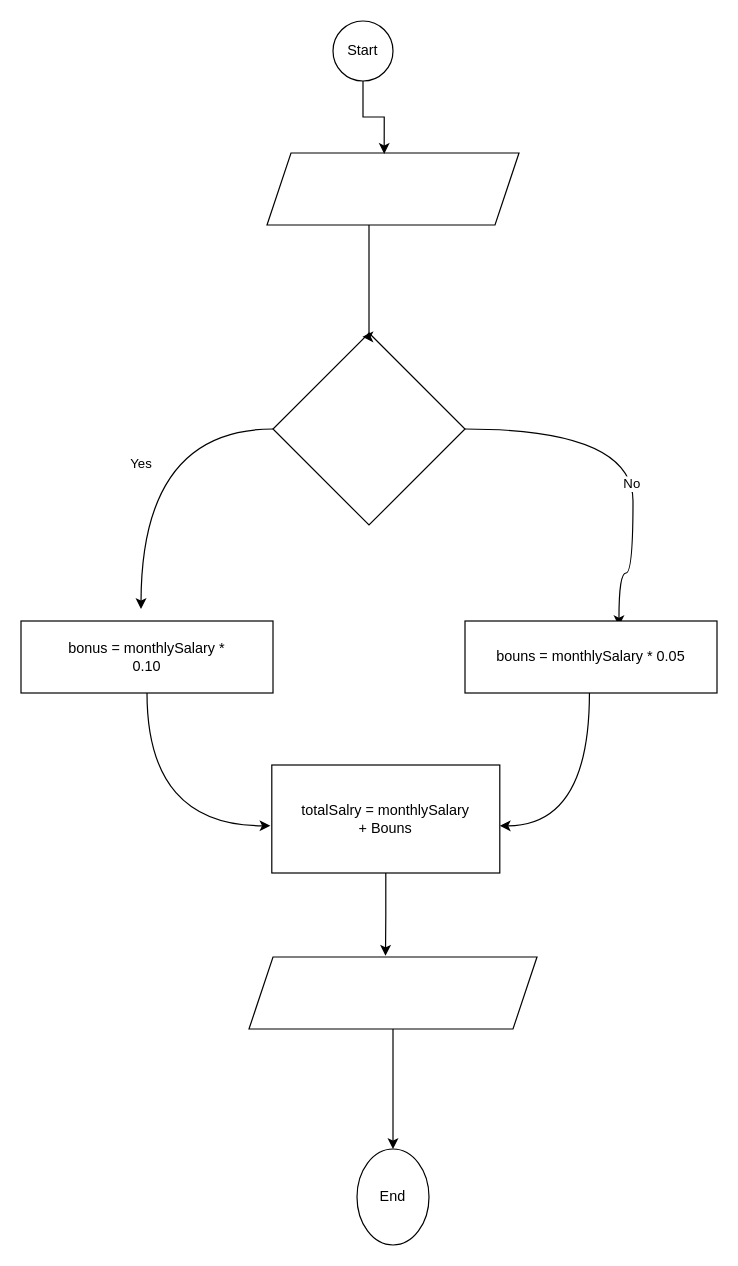
Image size: 738x1266. Some labels were removed from this diagram. Here are the shapes that lost their labels. From the top down, the box of each, then its label:
(266, 152, 519, 225): Input monthlSalary,yearsOfServuce
(272, 332, 465, 525): yearsOfService >= 5?
(248, 956, 537, 1029): Display bouns totalSalary
